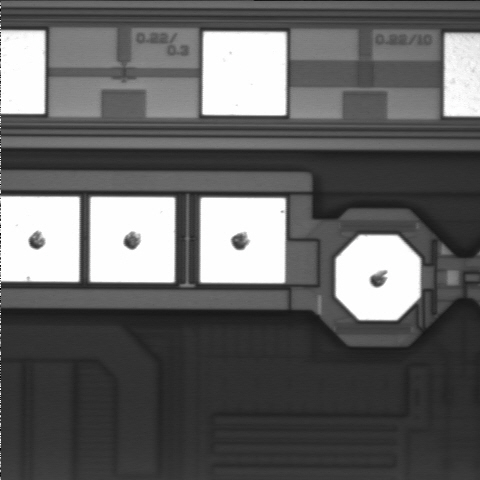pad: (90, 197, 175, 282), (200, 198, 285, 283), (336, 235, 420, 320), (203, 32, 286, 115)
